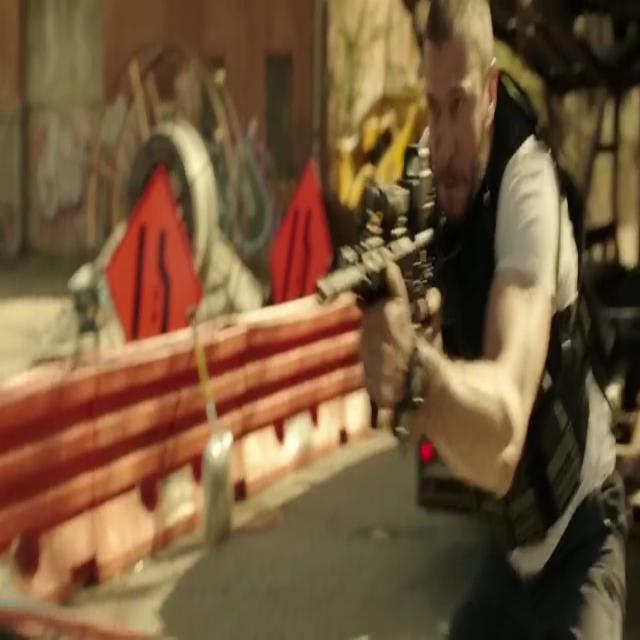Weapon: (318, 169, 460, 389)
